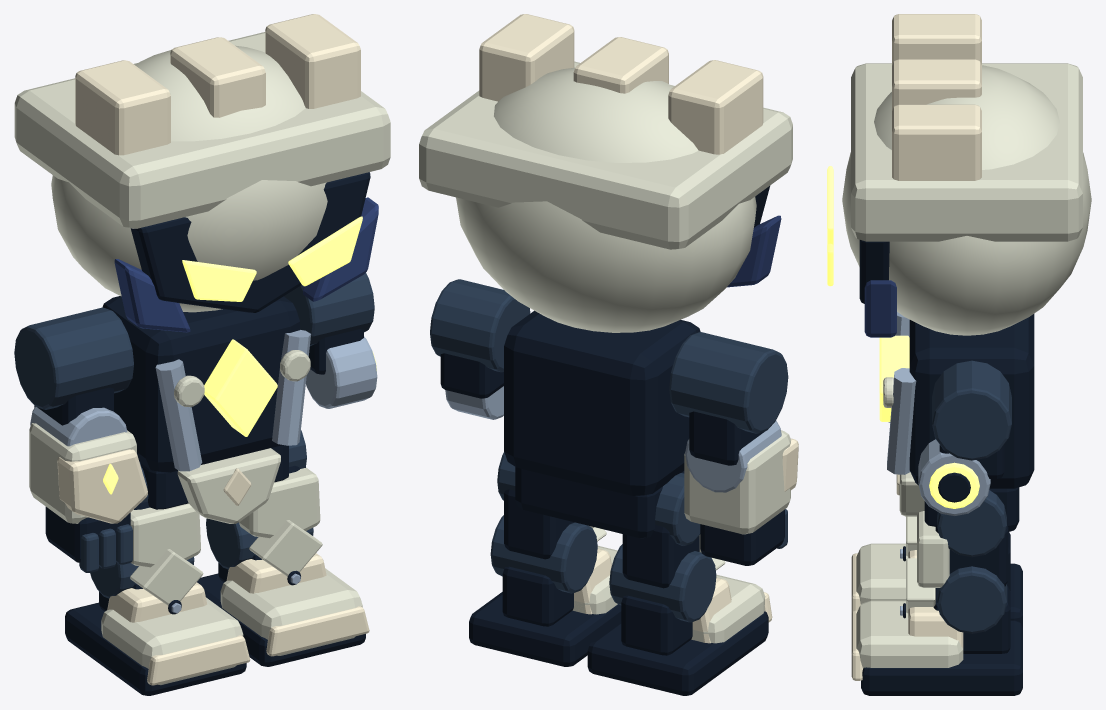
Rendered from rook.glb.
The picture shows the model from 3 angles, left to right: view 1: azimuth 30°, elevation 25°; view 2: azimuth 150°, elevation 25°; view 3: azimuth 270°, elevation 25°; orthographic projection. The views are drawn at different scales.
Visible parts, largest first — view 1: HeadArmor, LeftArmArmor, TorsoArmor, LeftLegArmor, RightLegArmor, RigArmor, HipsArmor, Core, EyeRight, EyeLeft; view 2: HeadArmor, TorsoArmor, LeftArmArmor, LeftLegArmor, RightLegArmor, RigArmor, HipsArmor; view 3: HeadArmor, RightLegArmor, TorsoArmor, RigArmor, LeftLegArmor, HipsArmor, Core, EyeLeft.
Part boxes in pixels (box(x1,y1,x2,y2)): HeadArmor: box(14, 14, 390, 332); LeftArmArmor: box(14, 307, 147, 572); TorsoArmor: box(102, 296, 310, 472); LeftLegArmor: box(65, 462, 250, 695); RightLegArmor: box(197, 430, 369, 666); RigArmor: box(284, 273, 377, 408); HipsArmor: box(140, 445, 288, 523); Core: box(204, 339, 277, 436); EyeRight: box(288, 216, 362, 286); EyeLeft: box(182, 260, 256, 301); HeadArmor: box(419, 14, 792, 332); TorsoArmor: box(504, 310, 700, 495); LeftArmArmor: box(669, 332, 798, 565); LeftLegArmor: box(587, 473, 772, 695); RightLegArmor: box(469, 452, 621, 666); RigArmor: box(430, 279, 530, 419); HipsArmor: box(515, 467, 684, 538); HeadArmor: box(842, 14, 1091, 337); RightLegArmor: box(851, 490, 1022, 695); TorsoArmor: box(883, 312, 1034, 488); RigArmor: box(918, 360, 1011, 515); LeftLegArmor: box(851, 516, 1022, 627); HipsArmor: box(896, 472, 1019, 531); Core: box(879, 335, 909, 421); EyeLeft: box(827, 166, 833, 245).
Size of the model in its own units: 1.47 by 2.54 by 1.06.
